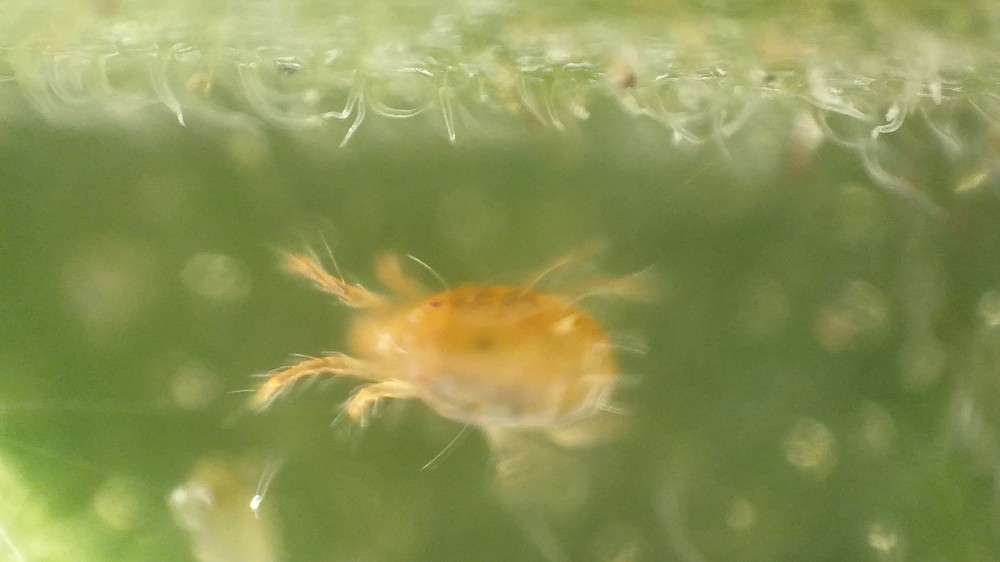Aracnido Rojo: (252, 217, 681, 486)
